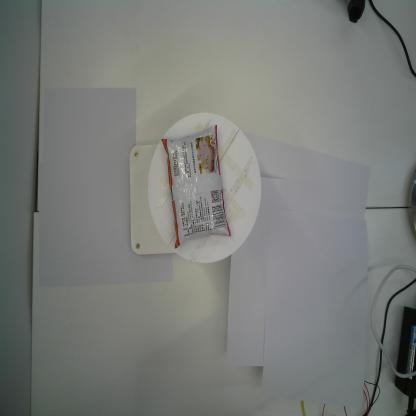Seasoner: (158, 121, 233, 252)
